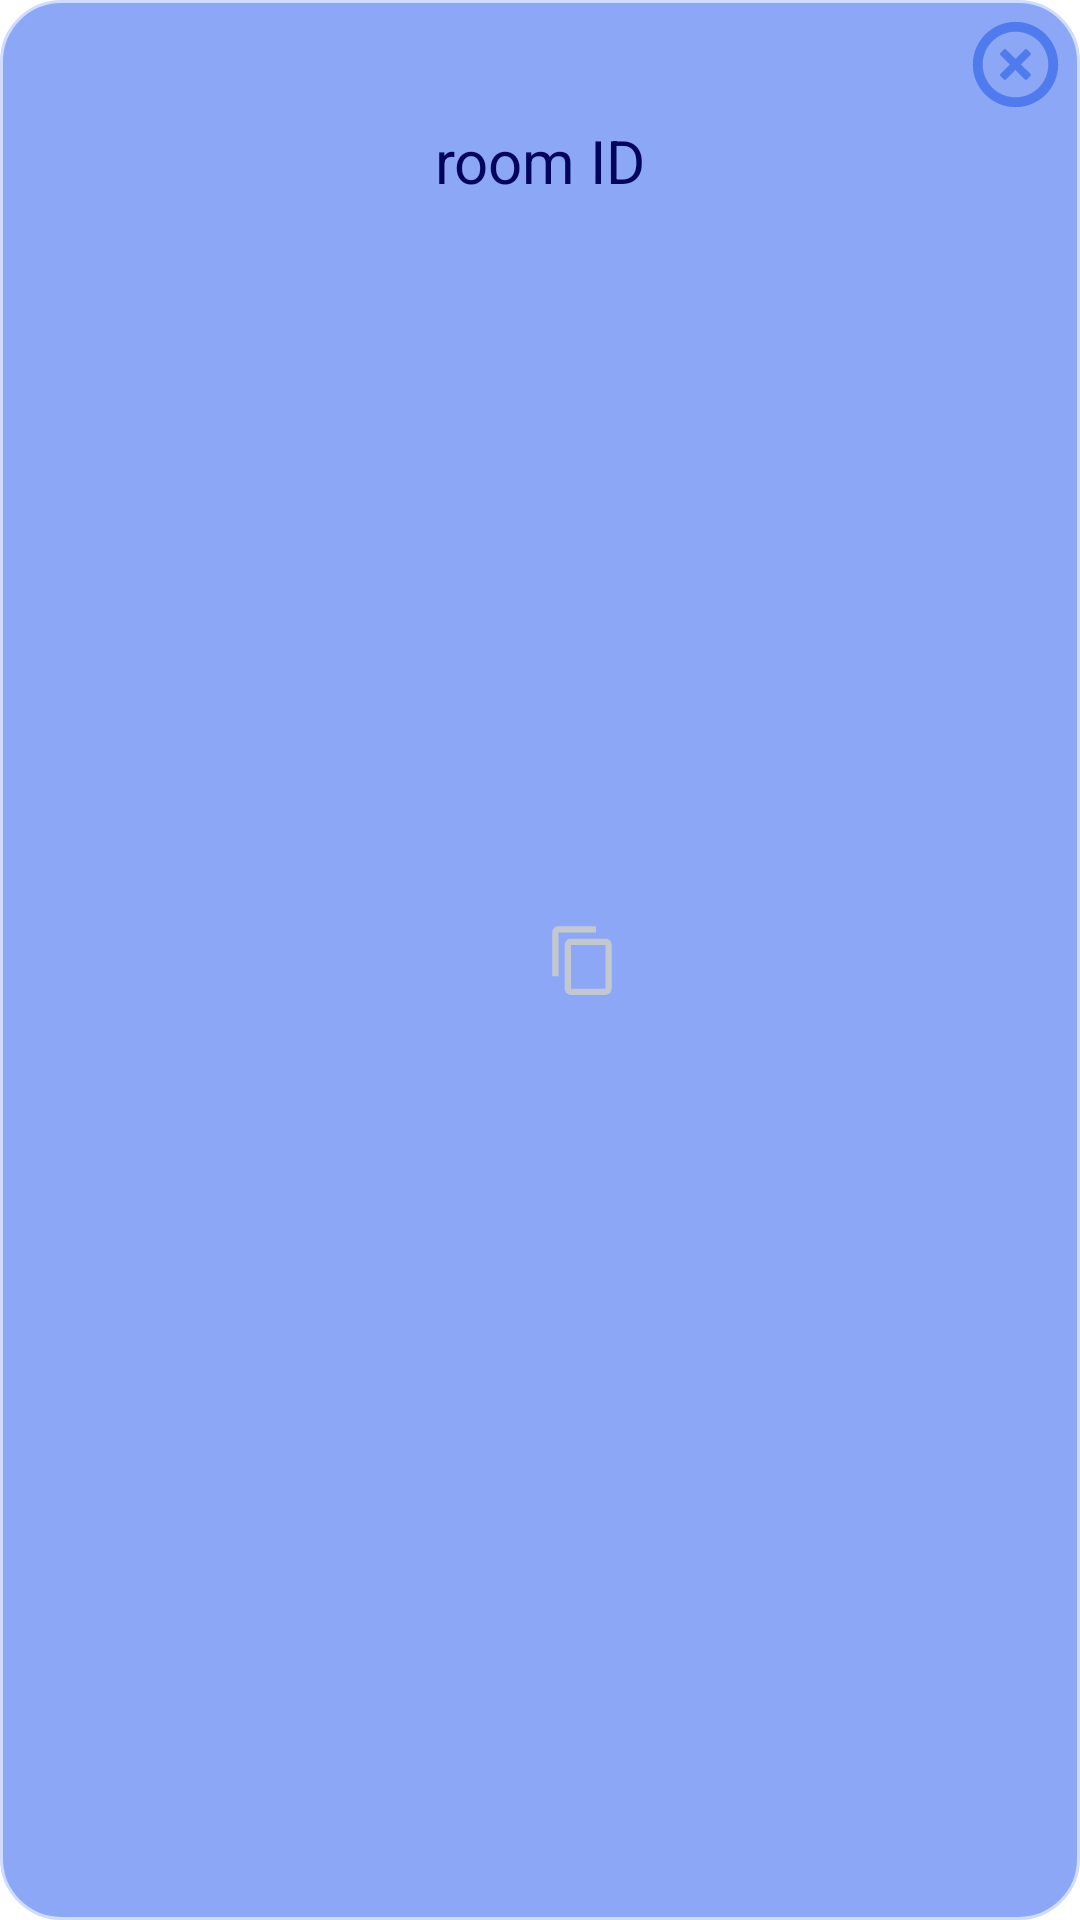

Icons on this 1080x1920 Android screen, each with the point to tap as (x=x, y=y):
cancel: (x=1015, y=64)
